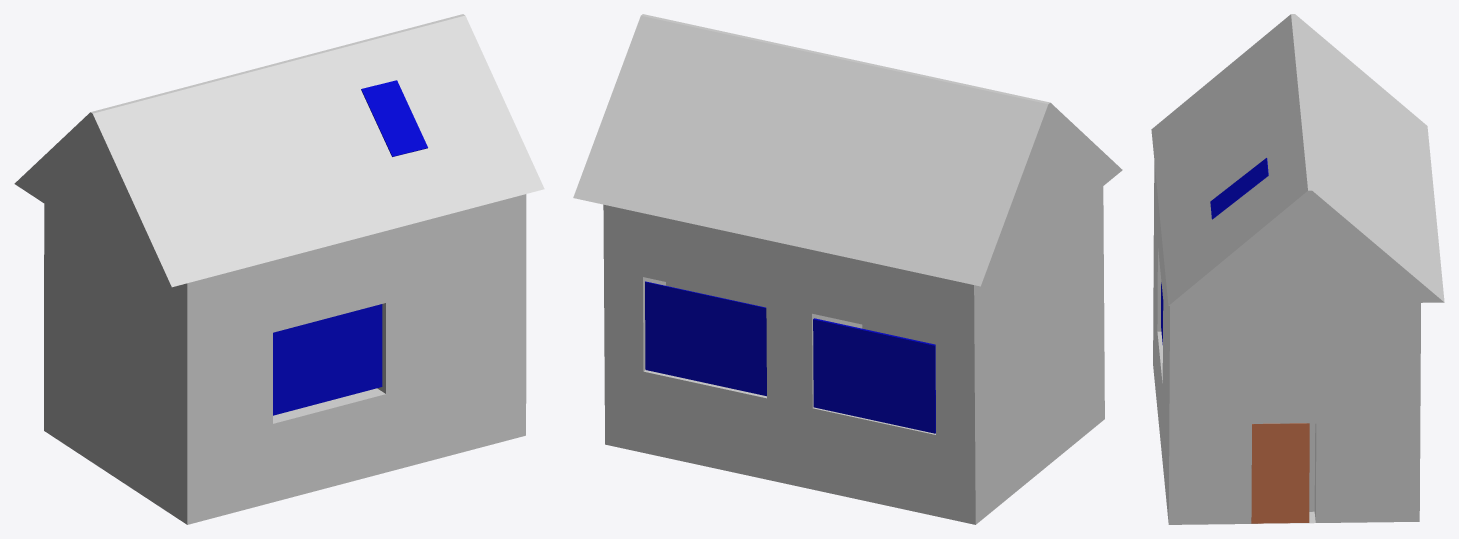
The model's file is house01.dae.
3 renders of one model, left to right at view 1: azimuth 30°, elevation 25°; view 2: azimuth 150°, elevation 25°; view 3: azimuth 270°, elevation 25°, orthographic. The views are drawn at different scales.
Visible parts, largest first — view 1: Haus_001, Dach_001, Cube_001_001, Cube_004_001; view 2: Haus_001, Dach_001, Cube_000_001, Cube_002_001; view 3: Dach_001, Haus_001, Cube_003_001, Cube_004_001.
Boxes of the visible parts, x1=… form: Haus_001: x1=44, y1=194, x2=526, y2=524; Dach_001: x1=14, y1=14, x2=544, y2=287; Cube_001_001: x1=273, y1=304, x2=382, y2=415; Cube_004_001: x1=361, y1=80, x2=427, y2=156; Haus_001: x1=603, y1=186, x2=1104, y2=524; Dach_001: x1=573, y1=14, x2=1122, y2=286; Cube_000_001: x1=813, y1=318, x2=935, y2=433; Cube_002_001: x1=645, y1=281, x2=766, y2=396; Dach_001: x1=1151, y1=14, x2=1444, y2=305; Haus_001: x1=1153, y1=161, x2=1420, y2=524; Cube_003_001: x1=1251, y1=423, x2=1309, y2=523; Cube_004_001: x1=1210, y1=158, x2=1268, y2=219.
Bounding box in the file's own units: 5.72 × 3.94 × 5.09.
